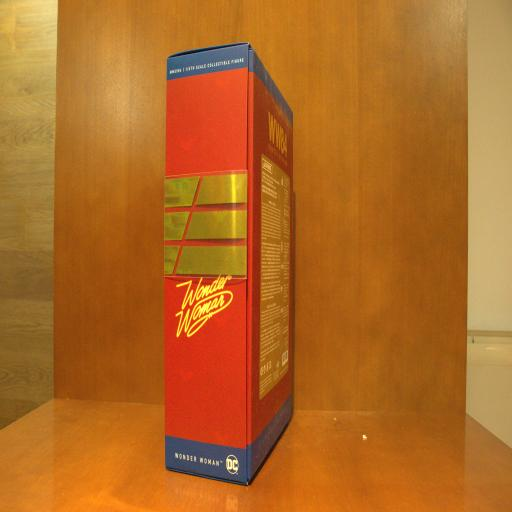WonderWoman: (164, 39, 295, 487)
